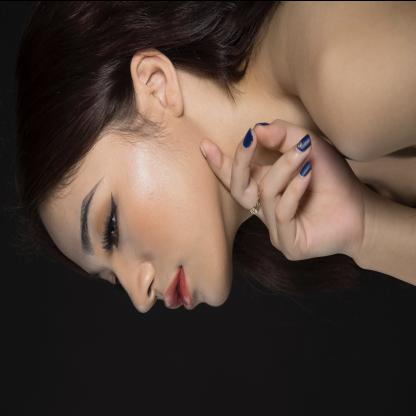Eye: (100, 198, 124, 254)
Mouth: (162, 261, 196, 313)
Nose: (116, 251, 158, 314)
